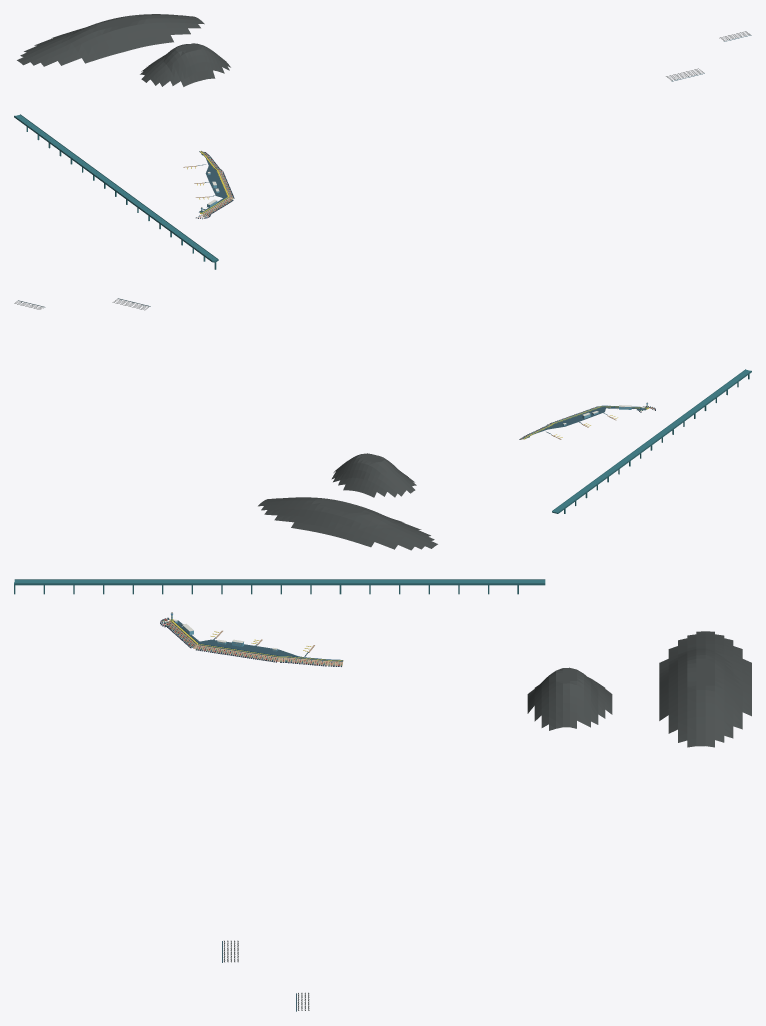
Rendered from harbor_photo.dae.
3 views of the same model, one above another, from view 1: azimuth 30°, elevation 25°; view 2: azimuth 150°, elevation 25°; view 3: azimuth 270°, elevation 25° (orthographic). The views are drawn at different scales.
Parts seen in each view (by area): view 1: Harbor; view 2: Harbor; view 3: Harbor.
Boxes of the visible parts, left/top/right/bottom form: Harbor: left=14, top=14, right=751, bottom=269; Harbor: left=14, top=298, right=751, bottom=550; Harbor: left=14, top=579, right=751, bottom=1011.
Bounding box in the file's own units: 1615 × 1196 × 63.8.
Materials: 1 (1 with a texture image).
